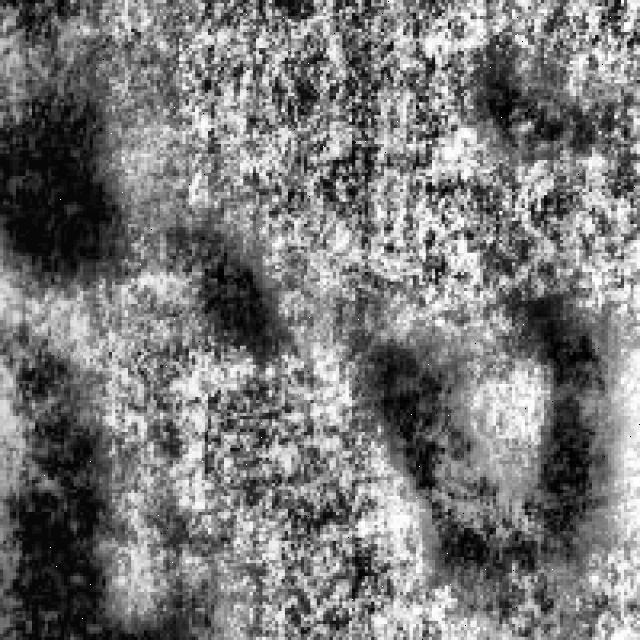Scratches: (362, 320, 614, 576), (3, 304, 115, 634), (0, 29, 122, 285), (164, 214, 268, 349), (476, 54, 570, 144)
